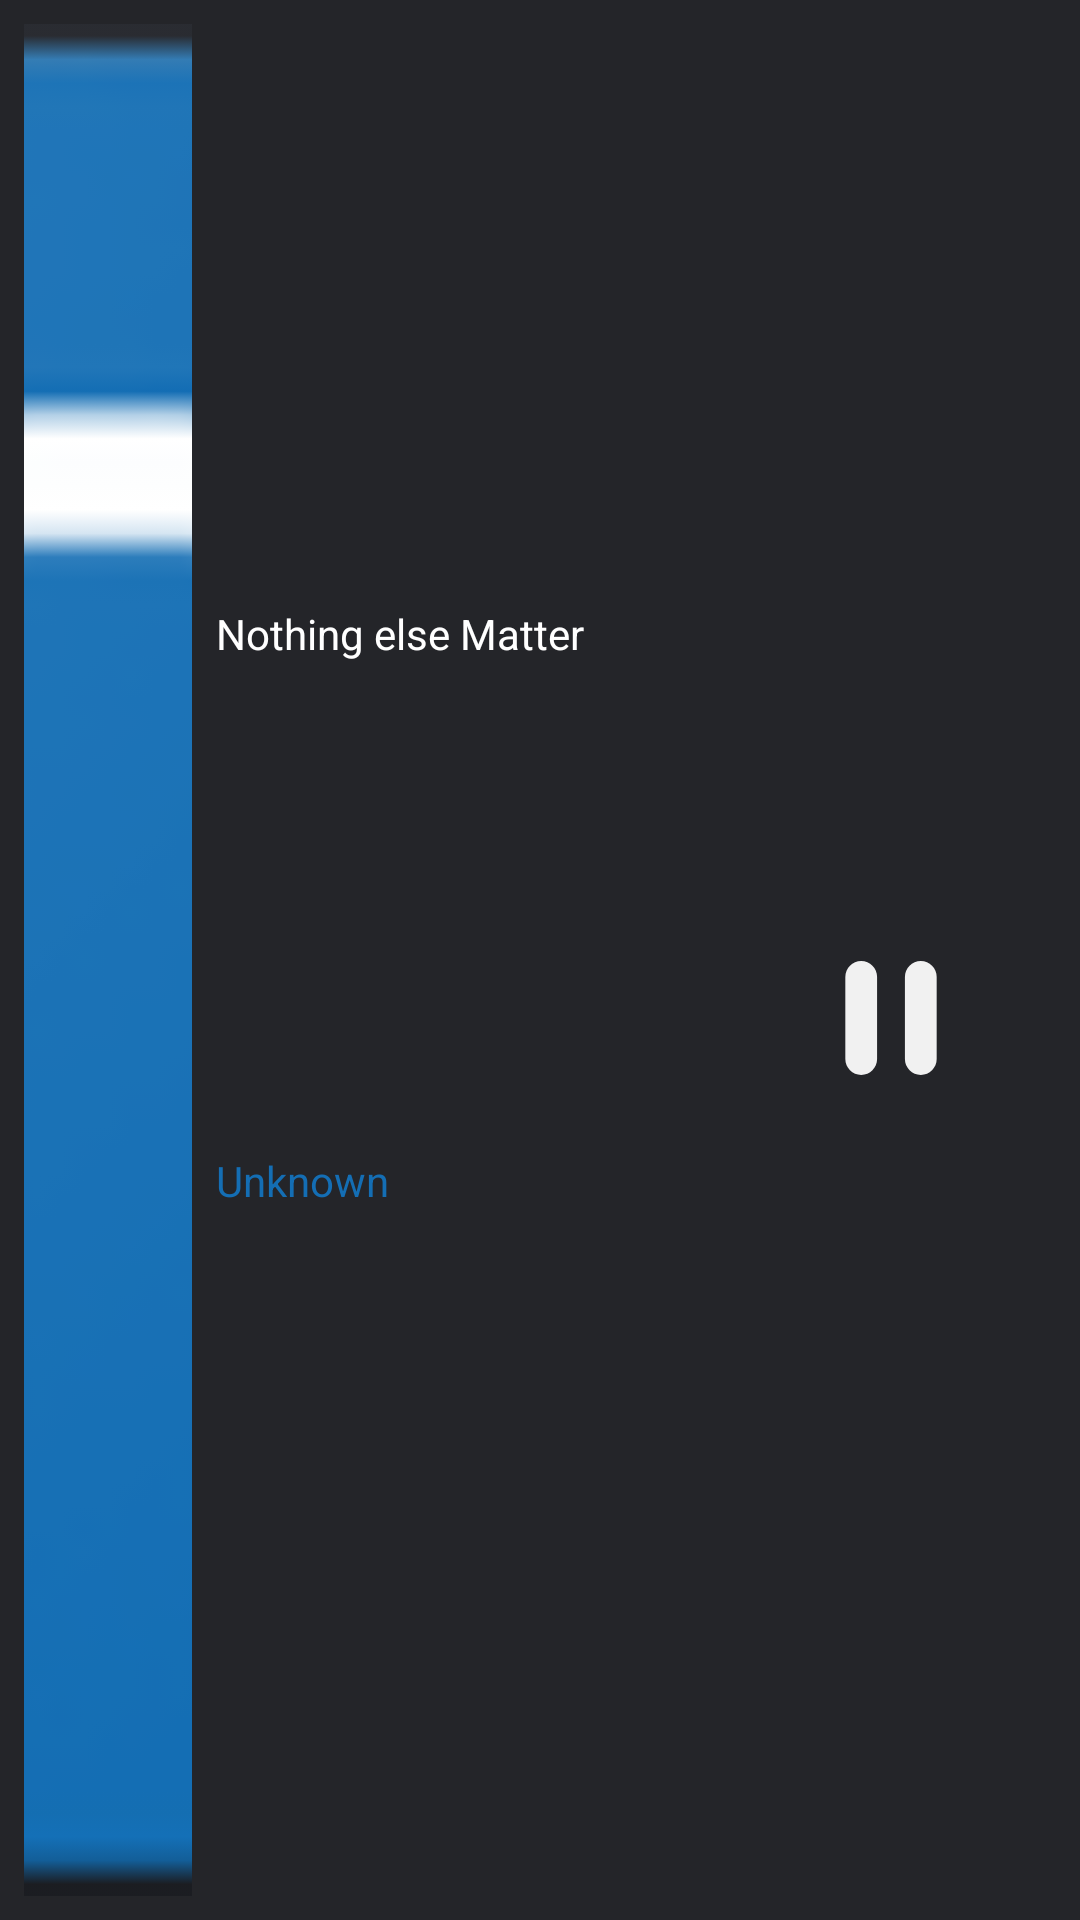

Point at icon controls on the screen. Image size 1080 × 1920, points as (x,y).
pause: (891,1018)
